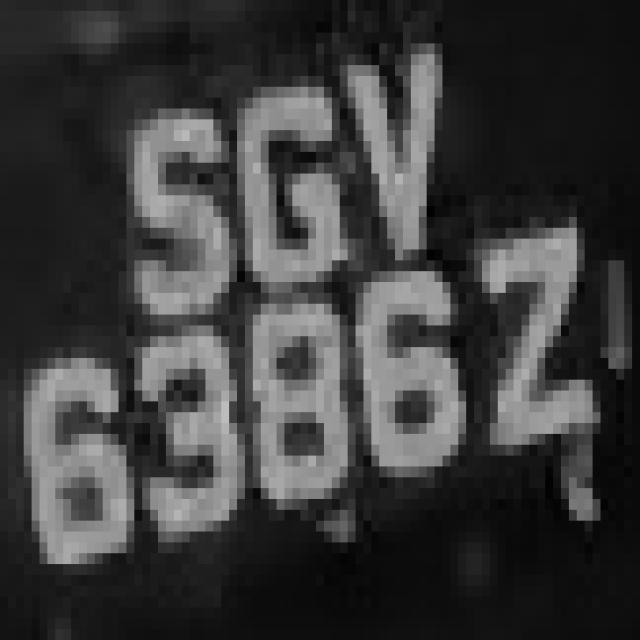3: (134, 304, 261, 520)
6: (8, 336, 134, 586), (348, 260, 482, 478)
8: (221, 260, 356, 532)
G: (221, 54, 348, 326)
S: (103, 87, 221, 325)
V: (332, 33, 442, 282)
Z: (466, 206, 601, 467)
